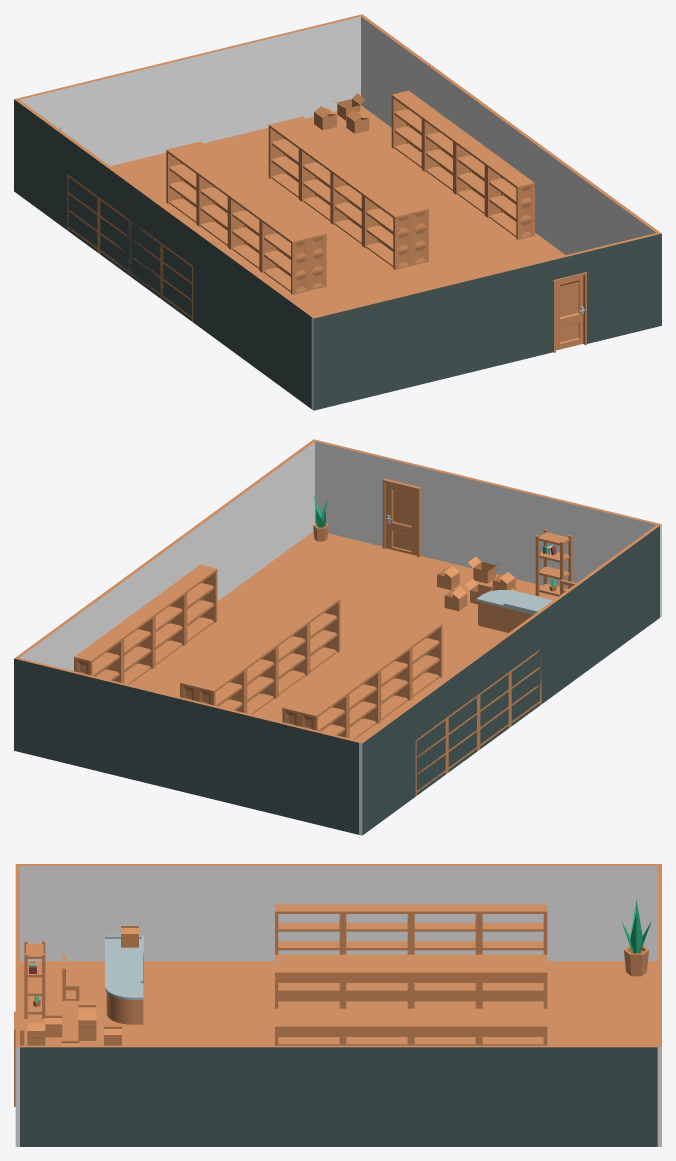
The model's file is epiceriefinie.fbx.
The picture shows the model from 3 angles, top to bottom: view 1: azimuth 30°, elevation 25°; view 2: azimuth 150°, elevation 25°; view 3: azimuth 270°, elevation 25°; orthographic projection. The views are drawn at different scales.
Visible parts, largest first — view 1: wall_833, wall_835, wall_834, wall_857, wall_856, wall_859, wall_837, wall_855, wall_858, wallDoorway_836, wall_845, wall_839 (+48 smaller); view 2: wall_854, wall_856, wall_855, wall_835, wall_857, wall_858, wall_837, wall_859, wall_834, wall_845, wall_833, wall_838 (+50 smaller); view 3: wall_849, wall_852, wall_850, wall_846, wall_840, wall_848, wall_847, wall_853, wall_838, wall_851, wall_845, wall_839 (+53 smaller).
Part boxes in pixels (x1,y1,x2,y2): wall_833: (311, 295, 402, 410); wall_835: (466, 263, 535, 372); wall_834: (399, 279, 467, 389); wall_857: (196, 38, 265, 143); wall_856: (141, 52, 210, 157); wall_859: (289, 14, 363, 119); wall_837: (587, 232, 661, 343); wall_855: (86, 65, 155, 166); wall_858: (251, 25, 319, 131); wallDoorway_836: (534, 246, 603, 356); wall_845: (14, 98, 57, 222); wall_839: (236, 261, 278, 382); wall_854: (290, 724, 360, 834); wall_856: (167, 695, 236, 803); wall_855: (222, 708, 291, 817); wall_835: (438, 470, 507, 574); wall_857: (113, 681, 181, 790); wall_858: (58, 668, 126, 777); wall_837: (312, 439, 387, 545); wall_859: (14, 657, 90, 765); wall_834: (506, 487, 573, 588); wall_845: (359, 711, 405, 835); wall_833: (571, 502, 661, 617); wall_838: (617, 525, 659, 646); wall_849: (334, 1045, 419, 1146); wall_852: (96, 1045, 181, 1146); wall_850: (249, 1045, 334, 1146); wall_846: (572, 1045, 657, 1146); wall_840: (181, 864, 266, 961); wall_848: (419, 1045, 504, 1146); wall_847: (496, 1045, 581, 1146); wall_853: (20, 1045, 104, 1146); wall_838: (20, 864, 104, 961); wall_851: (181, 1045, 266, 1146); wall_845: (568, 864, 661, 961); wall_839: (96, 864, 181, 961).
Size of the model in its own units: 51 by 12.9 by 76.2.
